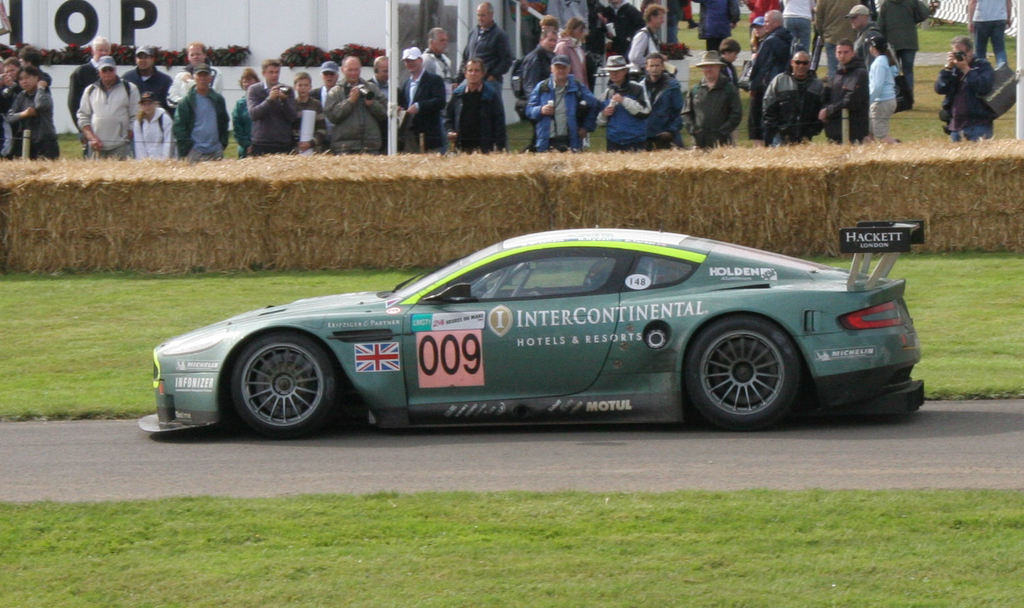cars: (135, 212, 927, 442)
